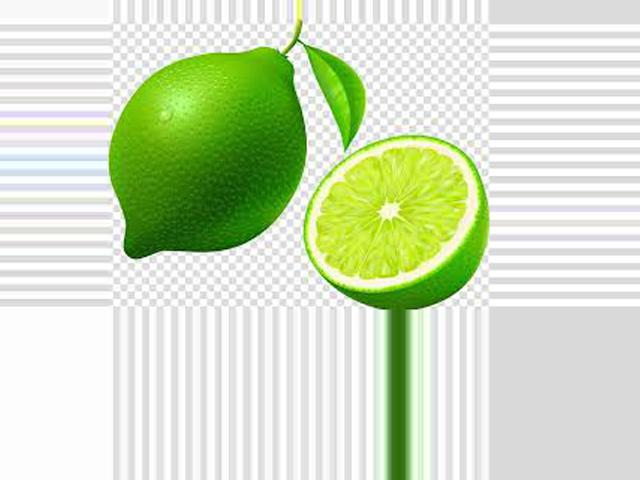lemon: (115, 41, 314, 266)
